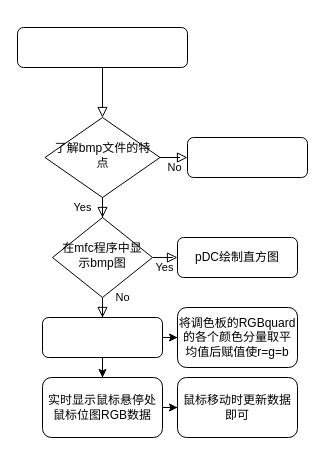
Image size: 325x455. Some labels were removed from this diagram. Here are the shapes that lost their labels. From the top down, the centre of each, then its label:
At point 102,47: "实现文件读取".
At point 247,157: "读取文件头，信息头，调色板，实际数据".
At point 102,337: "变成灰色需要将调色板".
